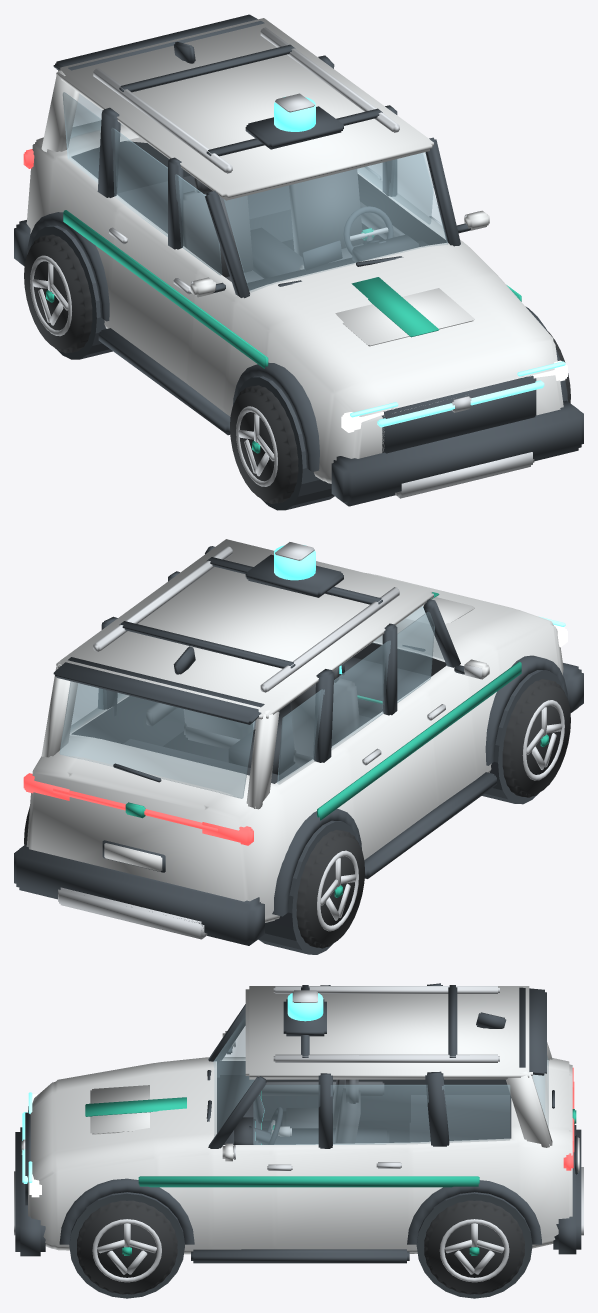
The model's file is patrol_suv.glb.
3 renders of one model, top to bottom at view 1: azimuth 30°, elevation 25°; view 2: azimuth 150°, elevation 25°; view 3: azimuth 270°, elevation 25°, orthographic. The views are drawn at different scales.
Visible parts, largest first — view 1: Patrol_LowerBody, Patrol_Roof, Patrol_Windshield, Patrol_FrontBumper, Patrol_SideGlass_-0.8, Patrol_FrontGrille, Patrol_Wheel_RR_Tire, Patrol_Wheel_FR_Tire, Patrol_SeatBack_0.4, Patrol_SeatBack_-0.4, Patrol_HoodDome, Patrol_SideStripe_-1.0 (+31 smaller); view 2: Patrol_LowerBody, Patrol_Roof, Patrol_RearGlass, Patrol_RearBumper, Patrol_SideGlass_-0.8, Patrol_Wheel_FR_Tire, Patrol_Wheel_RR_Tire, Patrol_RearSpoiler, Patrol_SideStripe_-1.0, Patrol_SeatBack_-0.4, Patrol_SideStep_-1.0, Patrol_RearSkid (+32 smaller); view 3: Patrol_LowerBody, Patrol_Roof, Patrol_SideGlass_0.8, Patrol_Wheel_FL_Tire, Patrol_Wheel_RL_Tire, Patrol_SideStripe_1.0, Patrol_SideStep_1.0, Patrol_Windshield, Patrol_WheelWell_L_F, Patrol_WheelWell_L_R, Patrol_Fender_L_F, Patrol_Fender_L_R (+28 smaller).
Boxes of the visible parts, bbox=[...] form: Patrol_LowerBody: bbox=[26, 121, 563, 483]; Patrol_Roof: bbox=[56, 18, 433, 200]; Patrol_Windshield: bbox=[223, 152, 447, 292]; Patrol_FrontBumper: bbox=[331, 400, 583, 506]; Patrol_SideGlass_-0.8: bbox=[62, 92, 222, 275]; Patrol_FrontGrille: bbox=[382, 375, 536, 453]; Patrol_Wheel_RR_Tire: bbox=[24, 234, 92, 353]; Patrol_Wheel_FR_Tire: bbox=[230, 385, 298, 503]; Patrol_SeatBack_0.4: bbox=[289, 169, 363, 256]; Patrol_SeatBack_-0.4: bbox=[183, 191, 253, 277]; Patrol_HoodDome: bbox=[335, 288, 474, 346]; Patrol_SideStripe_-1.0: bbox=[63, 210, 268, 368]; Patrol_LowerBody: bbox=[26, 573, 563, 922]; Patrol_Roof: bbox=[56, 539, 433, 719]; Patrol_RearGlass: bbox=[59, 681, 254, 798]; Patrol_RearBumper: bbox=[14, 843, 264, 945]; Patrol_SideGlass_-0.8: bbox=[277, 612, 434, 784]; Patrol_Wheel_FR_Tire: bbox=[502, 679, 570, 797]; Patrol_Wheel_RR_Tire: bbox=[296, 829, 364, 948]; Patrol_RearSpoiler: bbox=[53, 657, 264, 724]; Patrol_SideStripe_-1.0: bbox=[317, 661, 521, 820]; Patrol_SeatBack_-0.4: bbox=[290, 678, 360, 756]; Patrol_SideStep_-1.0: bbox=[364, 772, 496, 878]; Patrol_RearSkid: bbox=[58, 887, 207, 939]; Patrol_LowerBody: bbox=[28, 1057, 572, 1254]; Patrol_Roof: bbox=[245, 986, 532, 1079]; Patrol_SideGlass_0.8: bbox=[253, 1084, 510, 1144]; Patrol_Wheel_FL_Tire: bbox=[77, 1200, 177, 1294]; Patrol_Wheel_RL_Tire: bbox=[424, 1200, 524, 1294]; Patrol_SideStripe_1.0: bbox=[138, 1176, 479, 1187]; Patrol_SideStep_1.0: bbox=[191, 1249, 409, 1263]; Patrol_Windshield: bbox=[213, 1015, 254, 1136]; Patrol_WheelWell_L_F: bbox=[69, 1192, 184, 1298]; Patrol_WheelWell_L_R: bbox=[416, 1192, 532, 1298]; Patrol_Fender_L_F: bbox=[59, 1178, 194, 1244]; Patrol_Fender_L_R: bbox=[407, 1180, 541, 1244].
Bounding box in the file's own units: 2.25 × 2.16 × 4.48.
